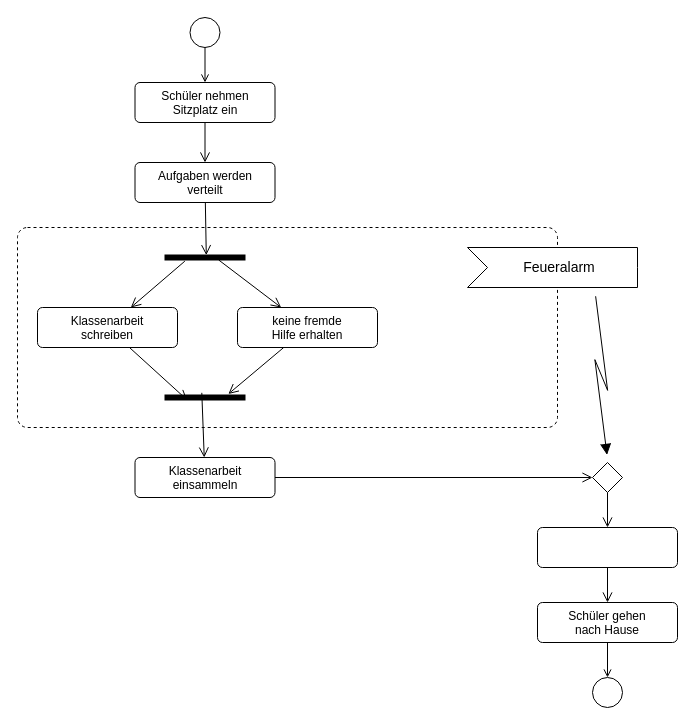
Some shapes in this 695 by 725 pixel diagram are drawn without their labels. Here are the shapes that lost their labels. From the top down, the centre of each, then its label:
At point (204, 32): "Start".
At point (607, 547): "Klassenraum verlassen".
At point (607, 692): "Ende".
